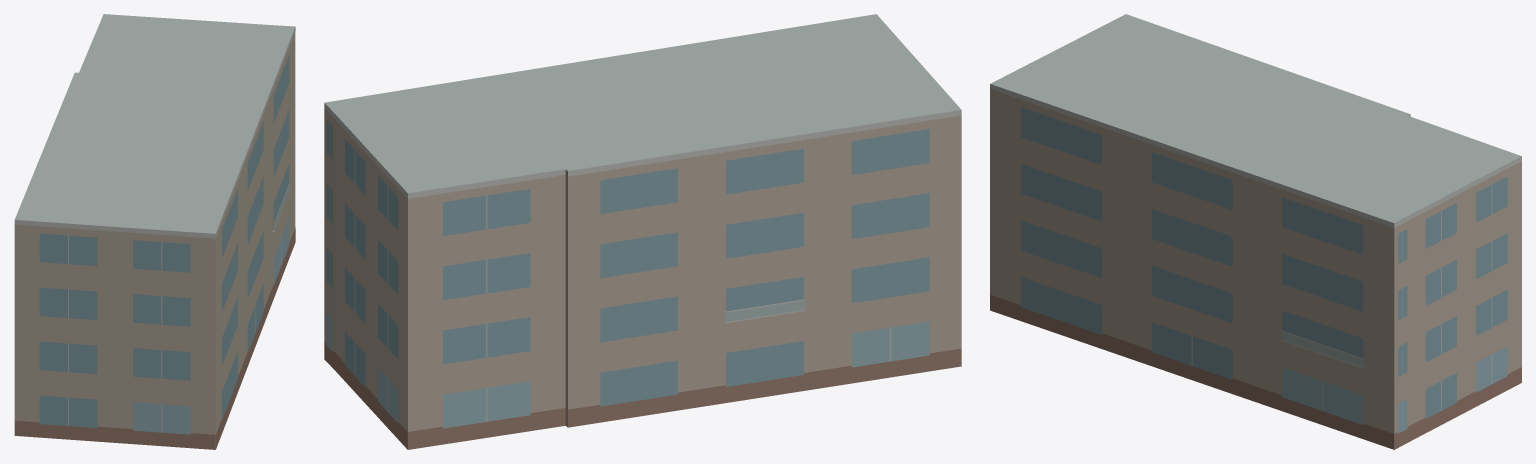
The model's file is survey-upis-32538776.glb.
3 views of the same model, side by side, from view 1: azimuth 30°, elevation 25°; view 2: azimuth 150°, elevation 25°; view 3: azimuth 270°, elevation 25° (orthographic). The views are drawn at different scales.
Visible parts, largest first — view 1: survey-upis-32538776.tmp; view 2: survey-upis-32538776.tmp; view 3: survey-upis-32538776.tmp.
Boxes of the visible parts, x1,y1,x2,y2 form: survey-upis-32538776.tmp: (14,14,295,449); survey-upis-32538776.tmp: (324,14,961,449); survey-upis-32538776.tmp: (990,14,1521,449).
Size of the model in its own units: 22.19 by 11.2 by 23.83.
